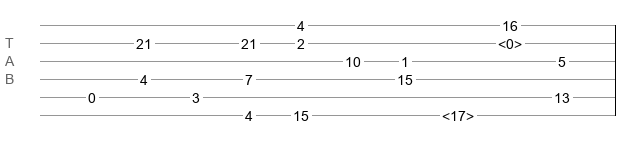0: (88, 90, 96, 100)
1: (401, 54, 409, 64)
10: (345, 54, 361, 64)
13: (554, 90, 570, 100)
15: (293, 108, 309, 118), (397, 72, 413, 82)
16: (502, 18, 518, 28)
2: (297, 36, 305, 46)
21: (136, 36, 152, 46), (241, 36, 257, 46)
3: (192, 90, 200, 100)
4: (140, 72, 148, 82), (245, 108, 253, 118), (297, 18, 305, 28)
5: (558, 54, 566, 64)
7: (245, 72, 253, 82)
harmonic: (442, 108, 474, 118), (498, 36, 522, 46)
